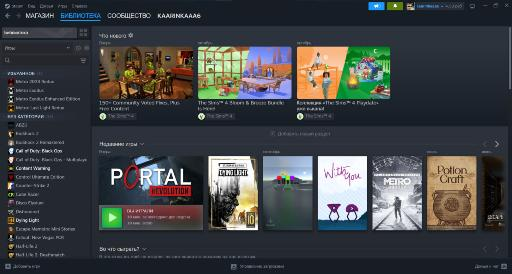steam: (0, 2, 512, 274)
